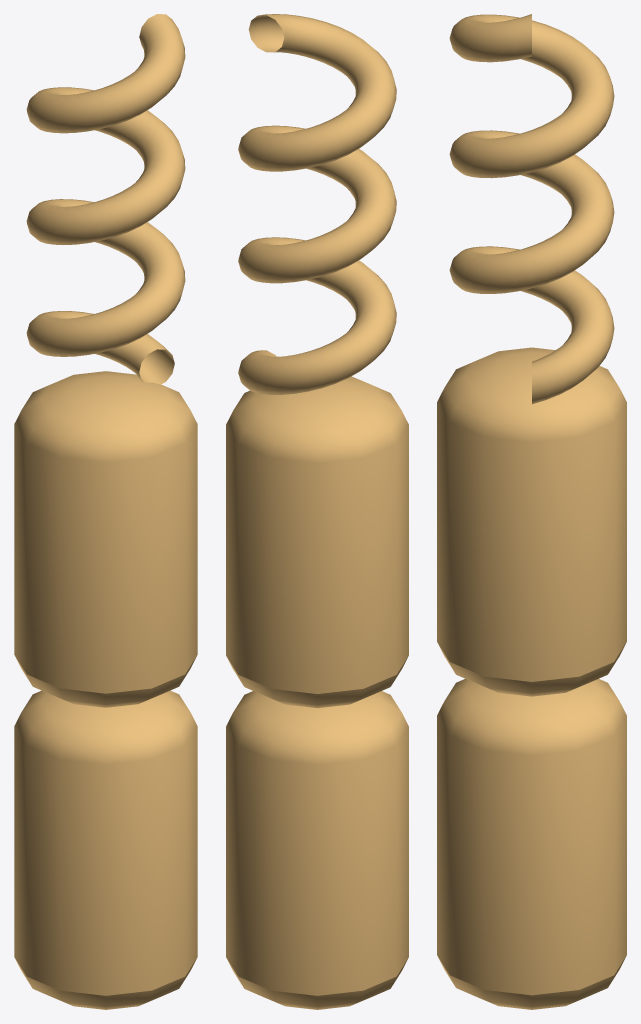
File: pin.glb
3 renders of one model, left to right at view 1: azimuth 30°, elevation 25°; view 2: azimuth 150°, elevation 25°; view 3: azimuth 270°, elevation 25°, orthographic. The views are drawn at different scales.
Visible parts, largest first — view 1: Sphere.001, Sphere, Circle; view 2: Sphere.001, Sphere, Circle; view 3: Sphere.001, Sphere, Circle.
Boxes of the visible parts, x1,y1,x2,y2 form: Sphere.001: [14, 371, 197, 707]; Sphere: [14, 690, 197, 1009]; Circle: [26, 14, 185, 384]; Sphere.001: [226, 376, 408, 708]; Sphere: [226, 691, 408, 1009]; Circle: [238, 14, 396, 394]; Sphere.001: [437, 347, 626, 696]; Sphere: [437, 679, 626, 1009]; Circle: [449, 14, 614, 404].
Size of the model in its own units: 0.1656 by 0.9646 by 0.1656.
